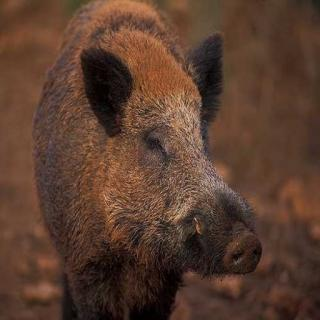Pig: (33, 9, 261, 320)
